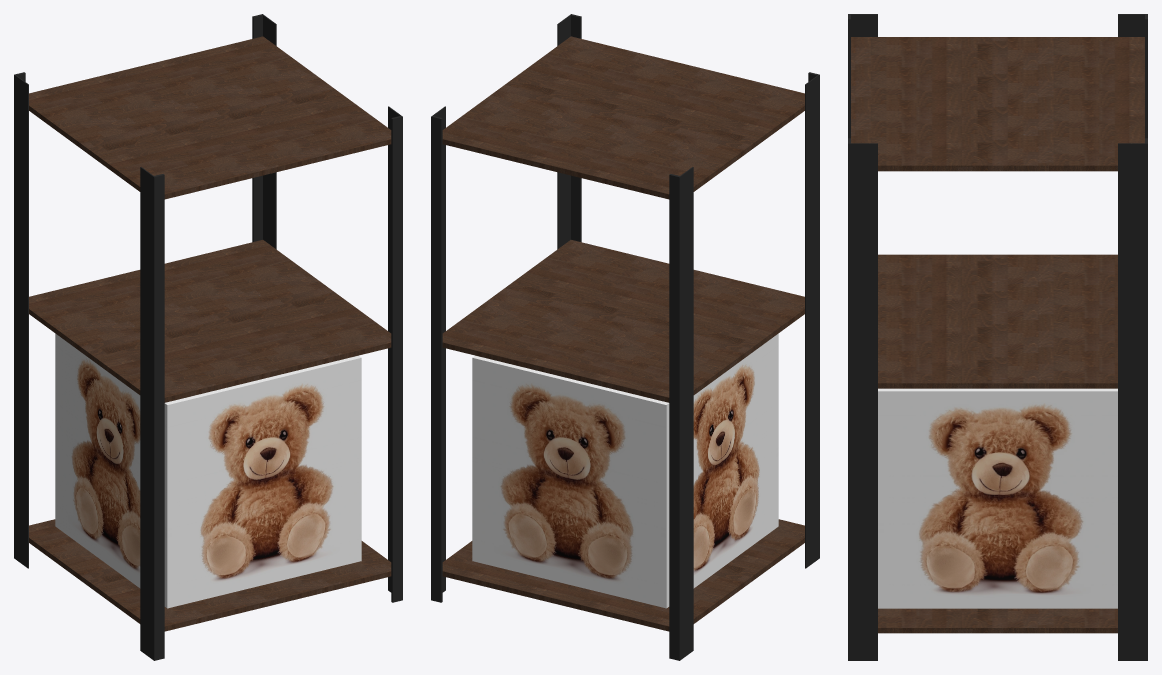
File: rack_teddy.dae
3 views of the same model, side by side, from view 1: azimuth 30°, elevation 25°; view 2: azimuth 150°, elevation 25°; view 3: azimuth 270°, elevation 25° (orthographic). The views are drawn at different scales.
Visible parts, largest first — view 1: Cube.001, Family2 Family2 [5175].001, Family2 Family2 [5175].002, Extrusion [3348], Family2 Family2 [5175]; view 2: Cube.001, Family2 Family2 [5175].001, Family2 Family2 [5175].002, Extrusion [3348], Family2 Family2 [5175]; view 3: Cube.001, Family2 Family2 [5175].001, Extrusion [3348], Family2 Family2 [5175].002, Family2 Family2 [5175].
Part boxes in pixels (x1=…): Cube.001: x1=55, y1=333, x2=361, y2=608; Family2 Family2 [5175].001: x1=29, y1=36, x2=391, y2=199; Family2 Family2 [5175].002: x1=29, y1=240, x2=391, y2=402; Extrusion [3348]: x1=14, y1=14, x2=402, y2=660; Family2 Family2 [5175]: x1=29, y1=519, x2=391, y2=631; Cube.001: x1=472, y1=333, x2=778, y2=608; Family2 Family2 [5175].001: x1=442, y1=36, x2=804, y2=199; Family2 Family2 [5175].002: x1=442, y1=240, x2=804, y2=402; Extrusion [3348]: x1=431, y1=14, x2=819, y2=660; Family2 Family2 [5175]: x1=442, y1=519, x2=804, y2=631; Cube.001: x1=878, y1=388, x2=1117, y2=608; Family2 Family2 [5175].001: x1=851, y1=37, x2=1144, y2=171; Extrusion [3348]: x1=848, y1=14, x2=1147, y2=660; Family2 Family2 [5175].002: x1=878, y1=254, x2=1117, y2=388; Family2 Family2 [5175]: x1=878, y1=608, x2=1117, y2=633.
Bounding box in the file's own units: 0.5118 × 0.5 × 0.9514.
Materials: 3 (2 with a texture image).
